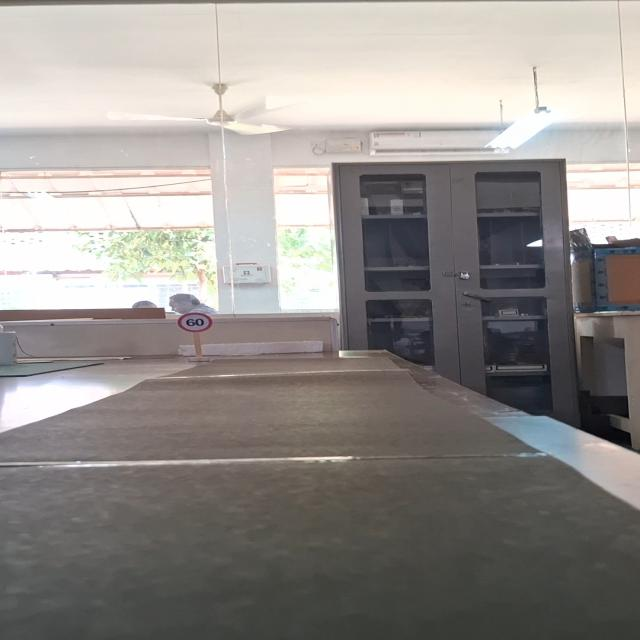Speed60: (176, 312, 213, 333)
